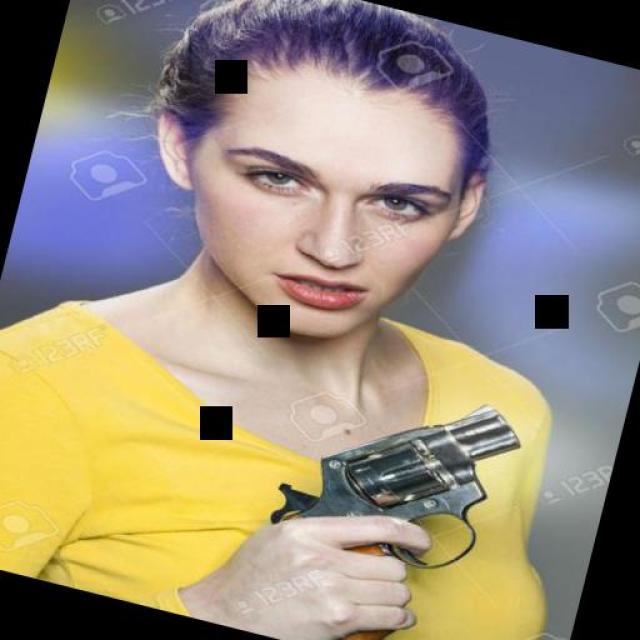gun: (263, 362, 532, 586)
